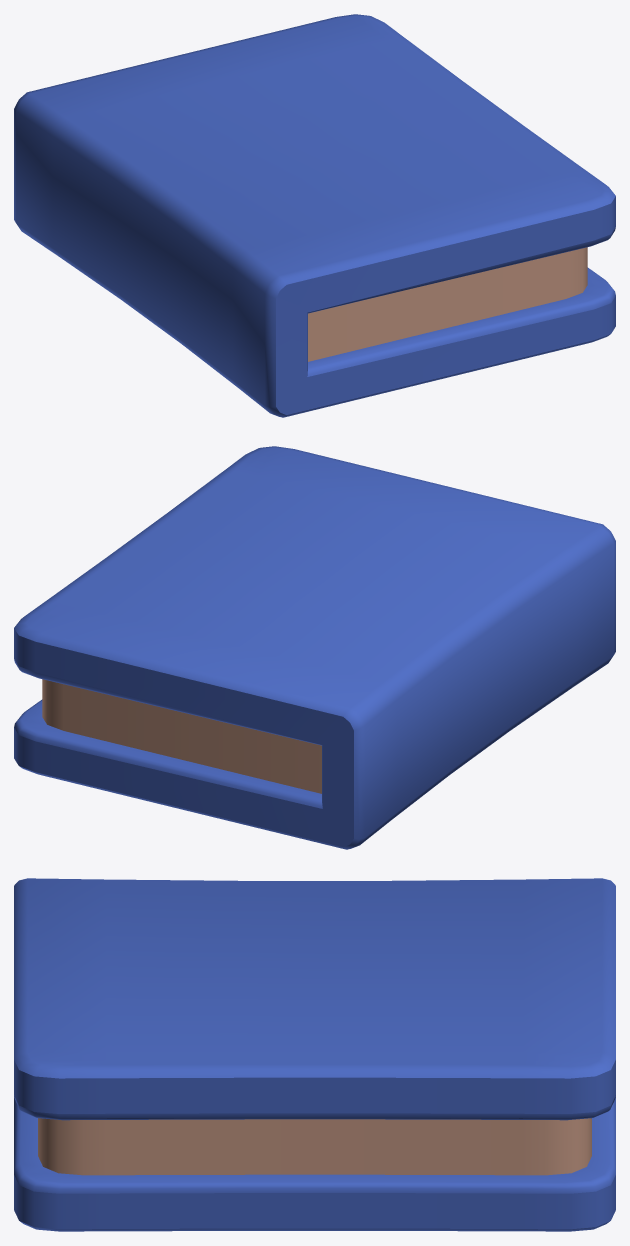
The model's file is Book_002.FBX.
The picture shows the model from 3 angles, top to bottom: view 1: azimuth 30°, elevation 25°; view 2: azimuth 150°, elevation 25°; view 3: azimuth 270°, elevation 25°; orthographic projection. The views are drawn at different scales.
Visible parts, largest first — view 1: Book_002; view 2: Book_002; view 3: Book_002.
Part boxes in pixels (bbox=[...]): Book_002: bbox=[14, 14, 615, 417]; Book_002: bbox=[14, 446, 615, 849]; Book_002: bbox=[14, 878, 615, 1231].
Size of the model in its own units: 8.24 by 3.1 by 10.38.
